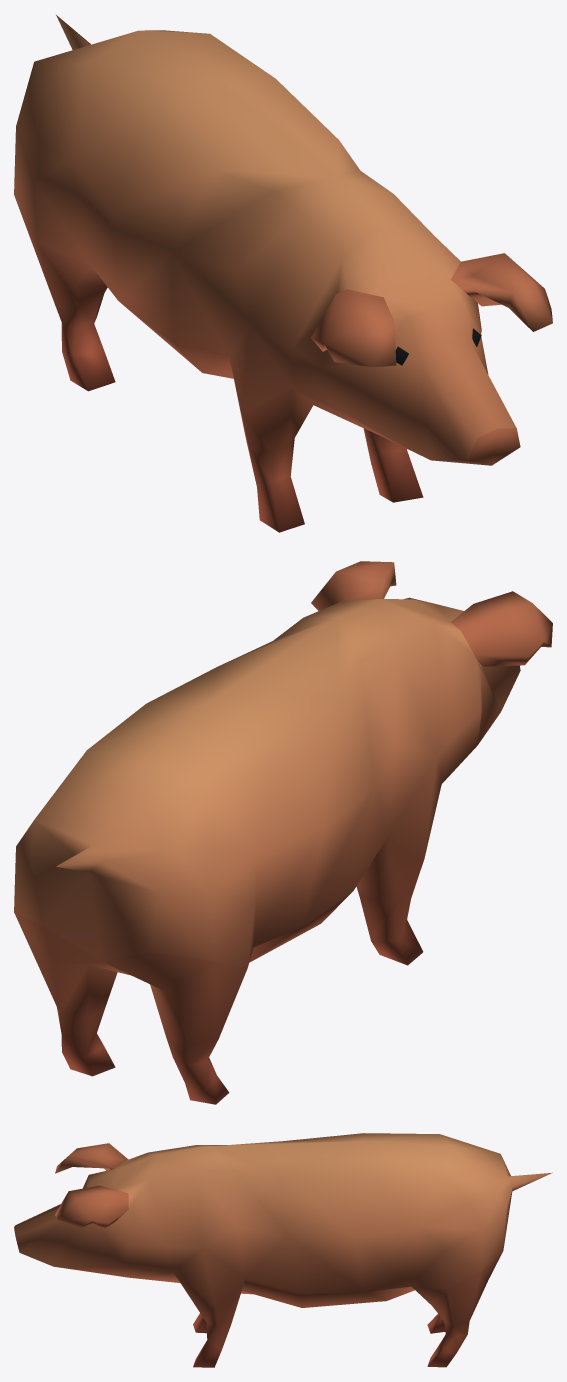
The model's file is SM_Pig_Static_02.fbx.
The picture shows the model from 3 angles, top to bottom: view 1: azimuth 30°, elevation 25°; view 2: azimuth 150°, elevation 25°; view 3: azimuth 270°, elevation 25°; orthographic projection. The views are drawn at different scales.
Visible parts, largest first — view 1: SM_Pig_Static_02; view 2: SM_Pig_Static_02; view 3: SM_Pig_Static_02.
Part boxes in pixels (x1,y1,x2,y2): SM_Pig_Static_02: (14,15,552,532); SM_Pig_Static_02: (14,561,552,1104); SM_Pig_Static_02: (14,1133,552,1367).
Bounding box in the file's own units: 0.3926 × 0.5662 × 1.35.
